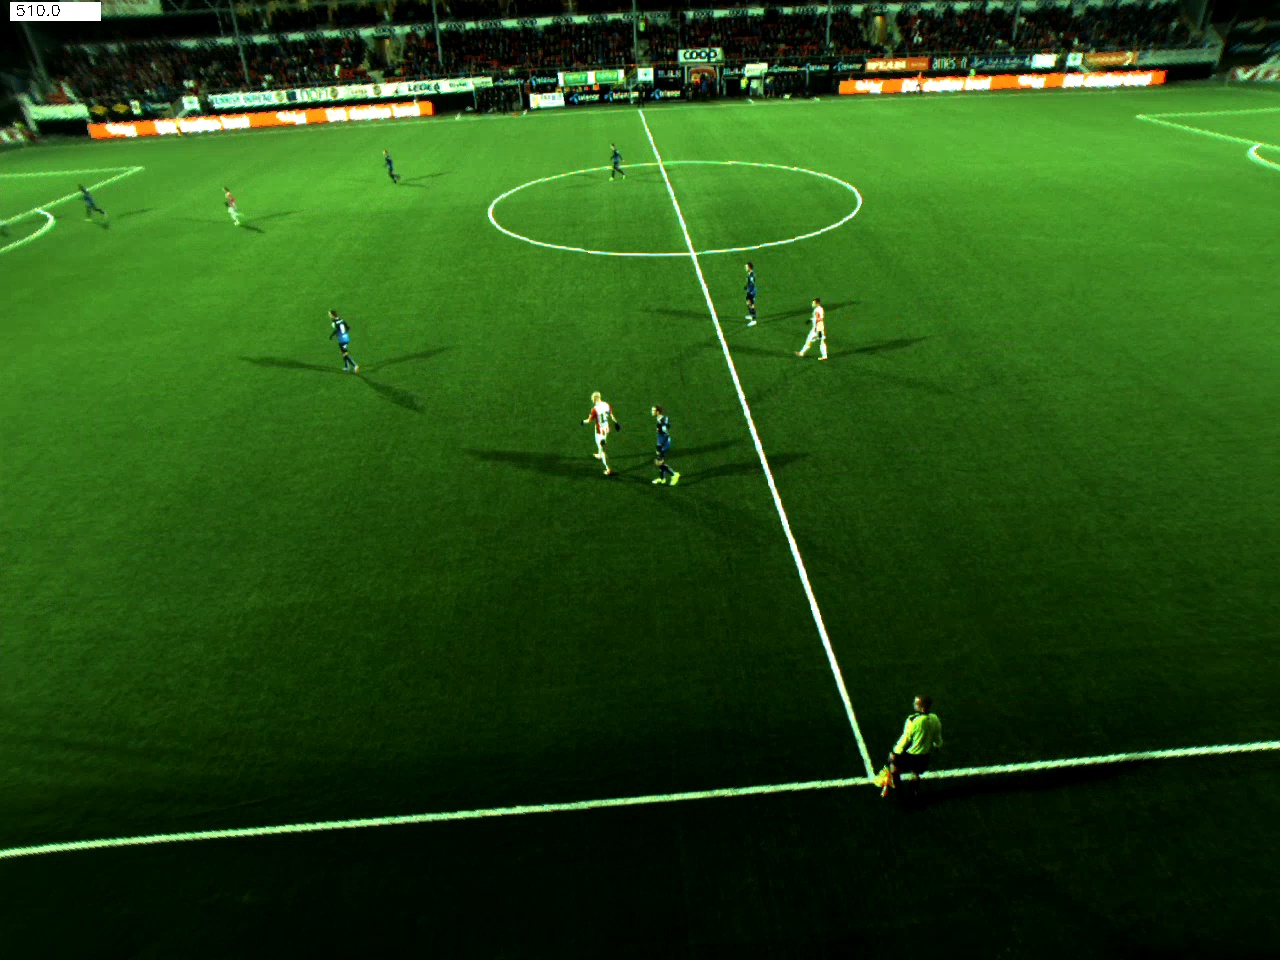blue: (635, 403, 683, 492), (324, 313, 367, 373), (738, 257, 767, 327), (69, 179, 105, 217), (602, 138, 626, 181), (380, 149, 409, 182)
red: (580, 392, 617, 484), (795, 301, 842, 374), (214, 181, 253, 238)
yellow: (876, 691, 942, 792)
